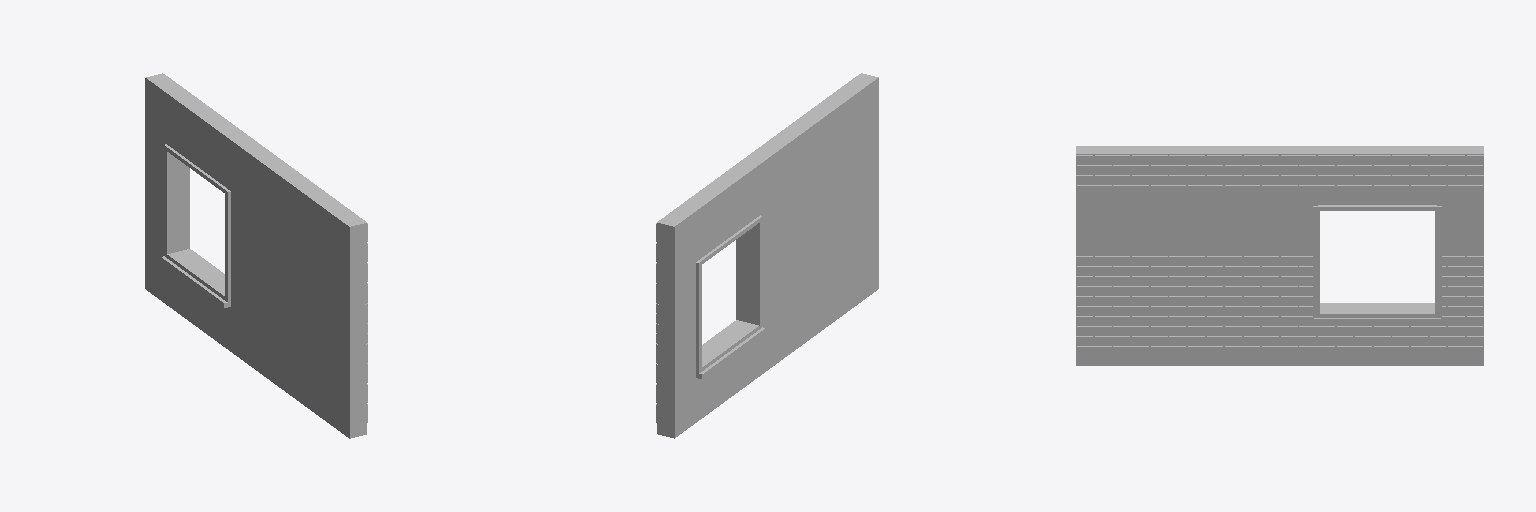
File: wall_with_right_window.obj
The picture shows the model from 3 angles: view 1: azimuth 30°, elevation 25°; view 2: azimuth 150°, elevation 25°; view 3: azimuth 270°, elevation 25°; orthographic projection.
Parts seen in each view (by area): view 1: VisualWall.003_Cube.051, VisualWindowsillLeft.002_Cube.049; view 2: VisualWall.003_Cube.051, VisualWindowsillLeft.002_Cube.049; view 3: VisualWall.003_Cube.051, VisualWindowsillLeft.002_Cube.049.
Boxes of the visible parts, x1,y1,x2,y2 form: VisualWall.003_Cube.051: [145, 73, 367, 438]; VisualWindowsillLeft.002_Cube.049: [161, 144, 230, 307]; VisualWall.003_Cube.051: [656, 73, 878, 438]; VisualWindowsillLeft.002_Cube.049: [696, 215, 765, 379]; VisualWall.003_Cube.051: [1076, 146, 1483, 365]; VisualWindowsillLeft.002_Cube.049: [1313, 205, 1441, 323].
Bounding box in the file's own units: 0.4367 × 3 × 5.25.